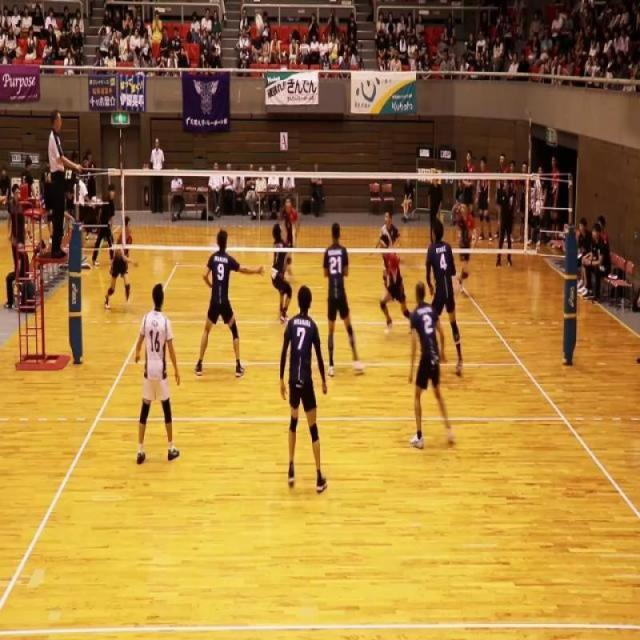volleyball: (254, 12, 264, 40)
